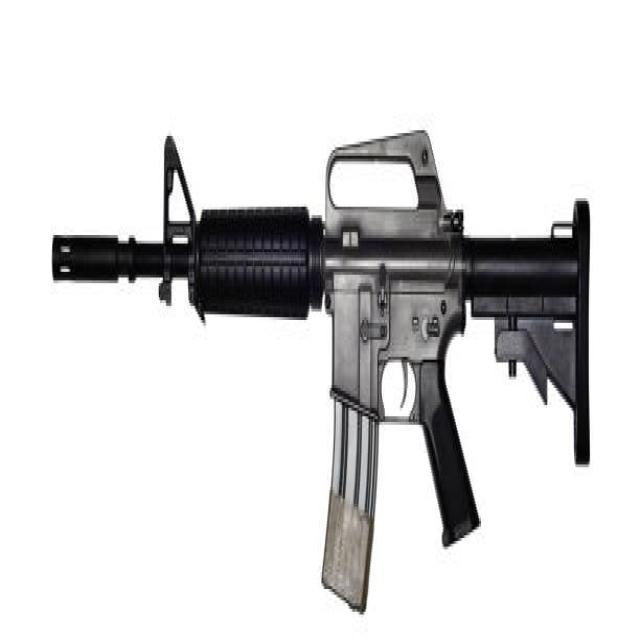rifle: (44, 91, 614, 632)
